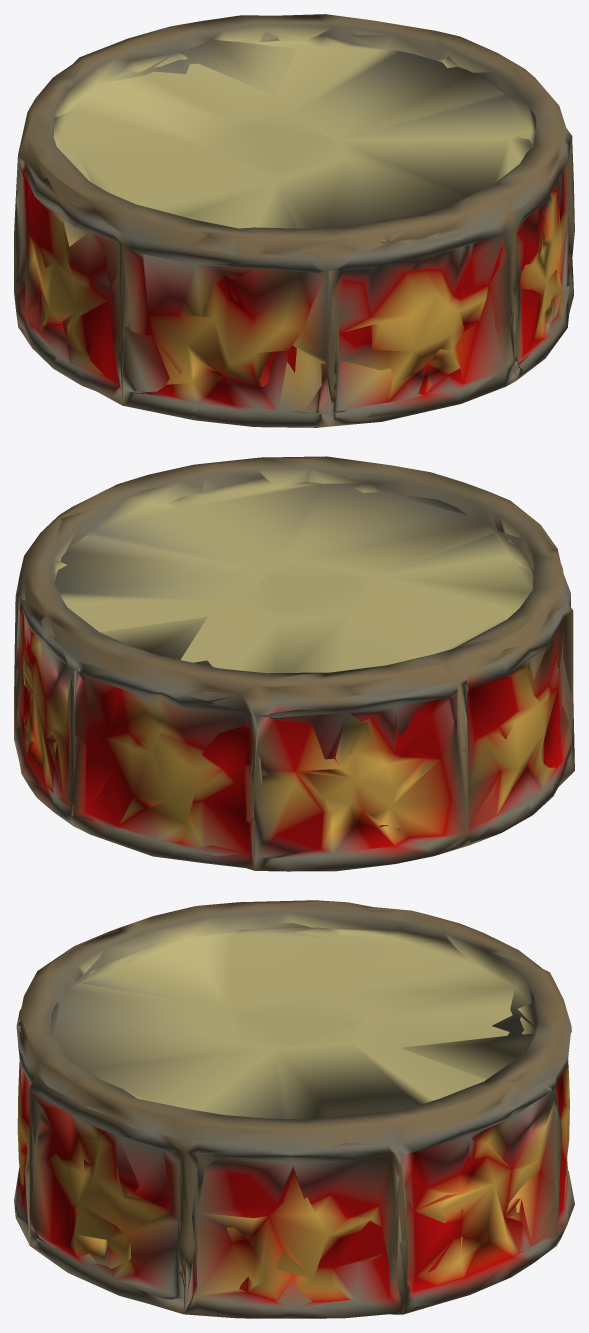
Rendered from gen3d-circus-drum-lod0.glb.
The picture shows the model from 3 angles, top to bottom: view 1: azimuth 30°, elevation 25°; view 2: azimuth 150°, elevation 25°; view 3: azimuth 270°, elevation 25°; orthographic projection.
Parts seen in each view (by area): view 1: part_0; view 2: part_0; view 3: part_0.
Boxes of the visible parts, bbox=[...] form: part_0: bbox=[14, 14, 574, 427]; part_0: bbox=[14, 456, 574, 871]; part_0: bbox=[14, 900, 574, 1318].
Bounding box in the file's own units: 2.69 × 0.9982 × 2.69.
